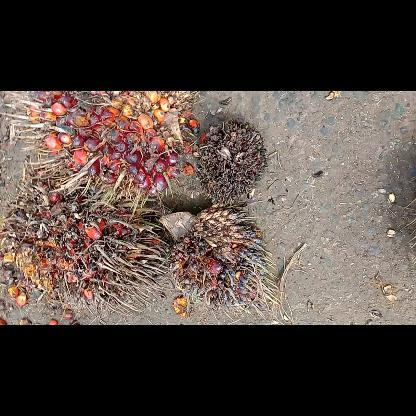TBS abnormal: (156, 204, 282, 316), (195, 117, 269, 207)
TBS masak: (18, 90, 198, 206)
Terlalu masak: (0, 165, 170, 318)
